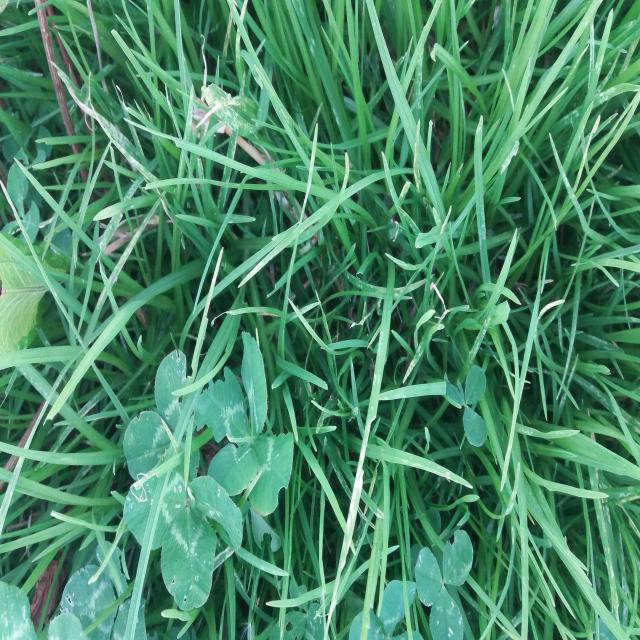Four Leaf Clover: (192, 331, 294, 517)
